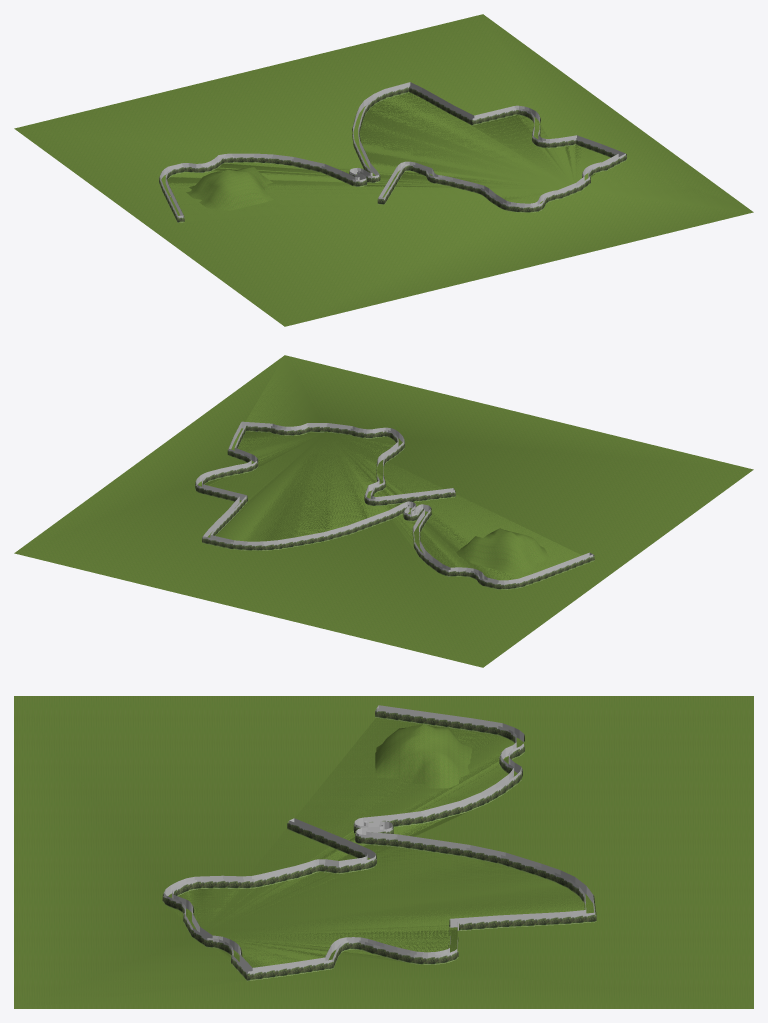
Rendered from busdrv_map.FBX.
3 views of the same model, one above another, from view 1: azimuth 30°, elevation 25°; view 2: azimuth 150°, elevation 25°; view 3: azimuth 270°, elevation 25° (orthographic). The views are drawn at different scales.
Visible parts, largest first — view 1: busdrv_rally, busdrv_col, busdrv_mount; view 2: busdrv_rally, busdrv_col, busdrv_mount; view 3: busdrv_rally, busdrv_col, busdrv_mount.
Part boxes in pixels (x1=…): busdrv_rally: x1=14, y1=14, x2=753, y2=326; busdrv_col: x1=160, y1=82, x2=625, y2=217; busdrv_mount: x1=186, y1=167, x2=273, y2=210; busdrv_rally: x1=14, y1=355, x2=753, y2=667; busdrv_col: x1=196, y1=421, x2=593, y2=584; busdrv_mount: x1=456, y1=528, x2=549, y2=574; busdrv_rally: x1=14, y1=696, x2=753, y2=1008; busdrv_col: x1=164, y1=705, x2=595, y2=974; busdrv_mount: x1=375, y1=724, x2=471, y2=788.
Size of the model in its own units: 300 by 300 by 15.63.
